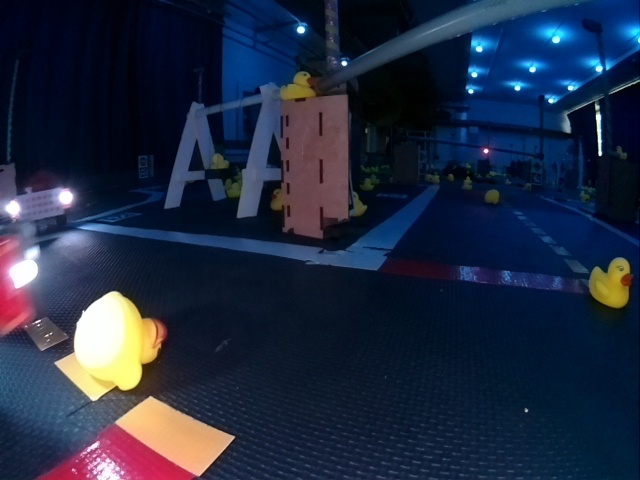Duckie: (73, 293, 167, 389), (589, 258, 629, 308), (281, 71, 314, 97), (348, 191, 368, 215), (271, 190, 285, 209), (211, 153, 229, 166), (485, 189, 499, 204), (361, 180, 374, 190), (431, 174, 439, 184), (463, 182, 472, 190)
Duckiebot: (3, 170, 78, 226), (3, 231, 38, 351)
